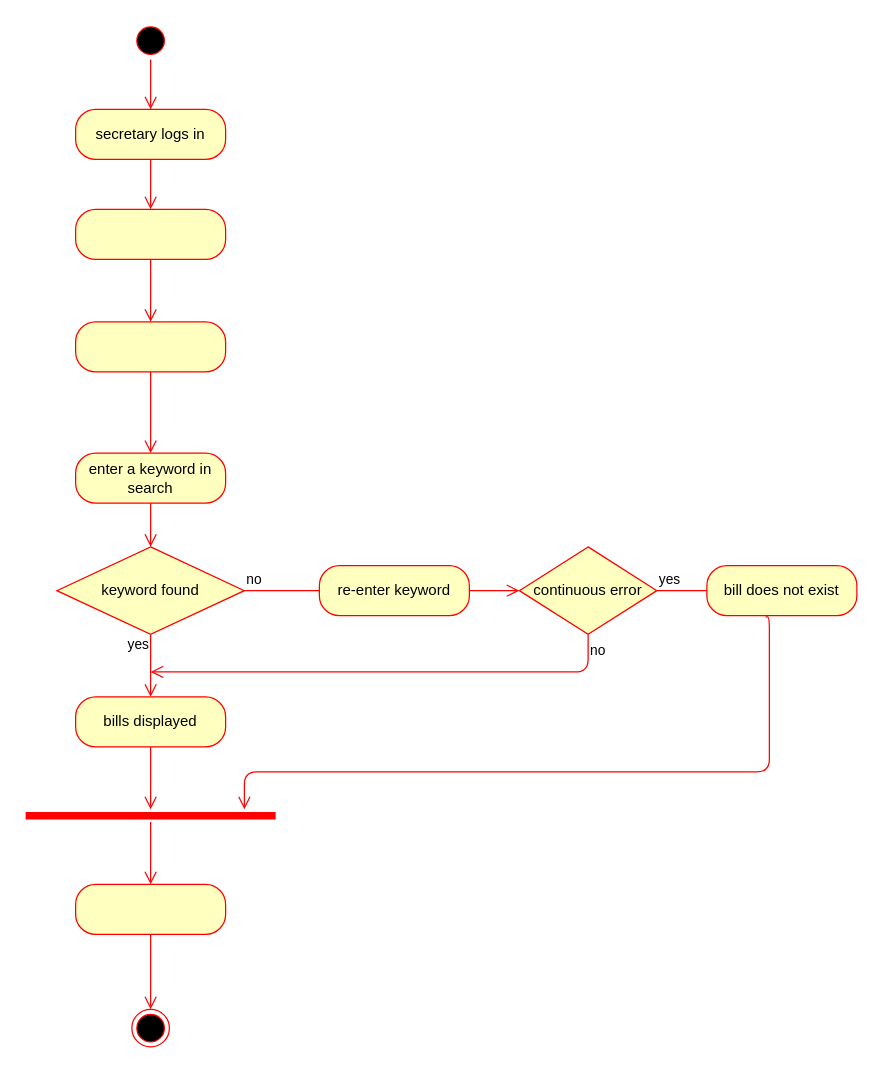
The diagram is 879 pixels wide and 1069 high, and some of its shapes have lost their labels. The centre of each missing label's shape, as x and y in pixels:
dashboard displayed: the point at 150,233
goes to bills sections: the point at 150,346
main page: the point at 150,908
